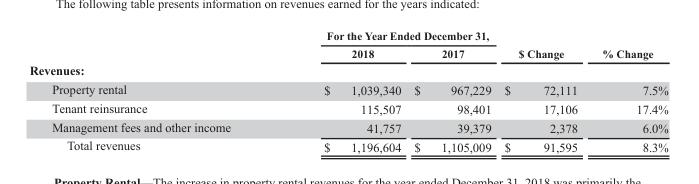table: (28, 29, 667, 153)
table column: (28, 29, 276, 153), (276, 29, 406, 153), (497, 29, 589, 153), (406, 29, 497, 153), (589, 29, 667, 153)
table column header: (28, 29, 667, 61)
table projected row header: (28, 61, 667, 79)
table row: (28, 79, 667, 98), (28, 98, 667, 117), (28, 117, 667, 136), (28, 61, 667, 79), (28, 44, 667, 61), (28, 136, 667, 153), (28, 29, 667, 44)
table spanning cell: (276, 29, 497, 44), (497, 29, 589, 61), (589, 29, 667, 61)
